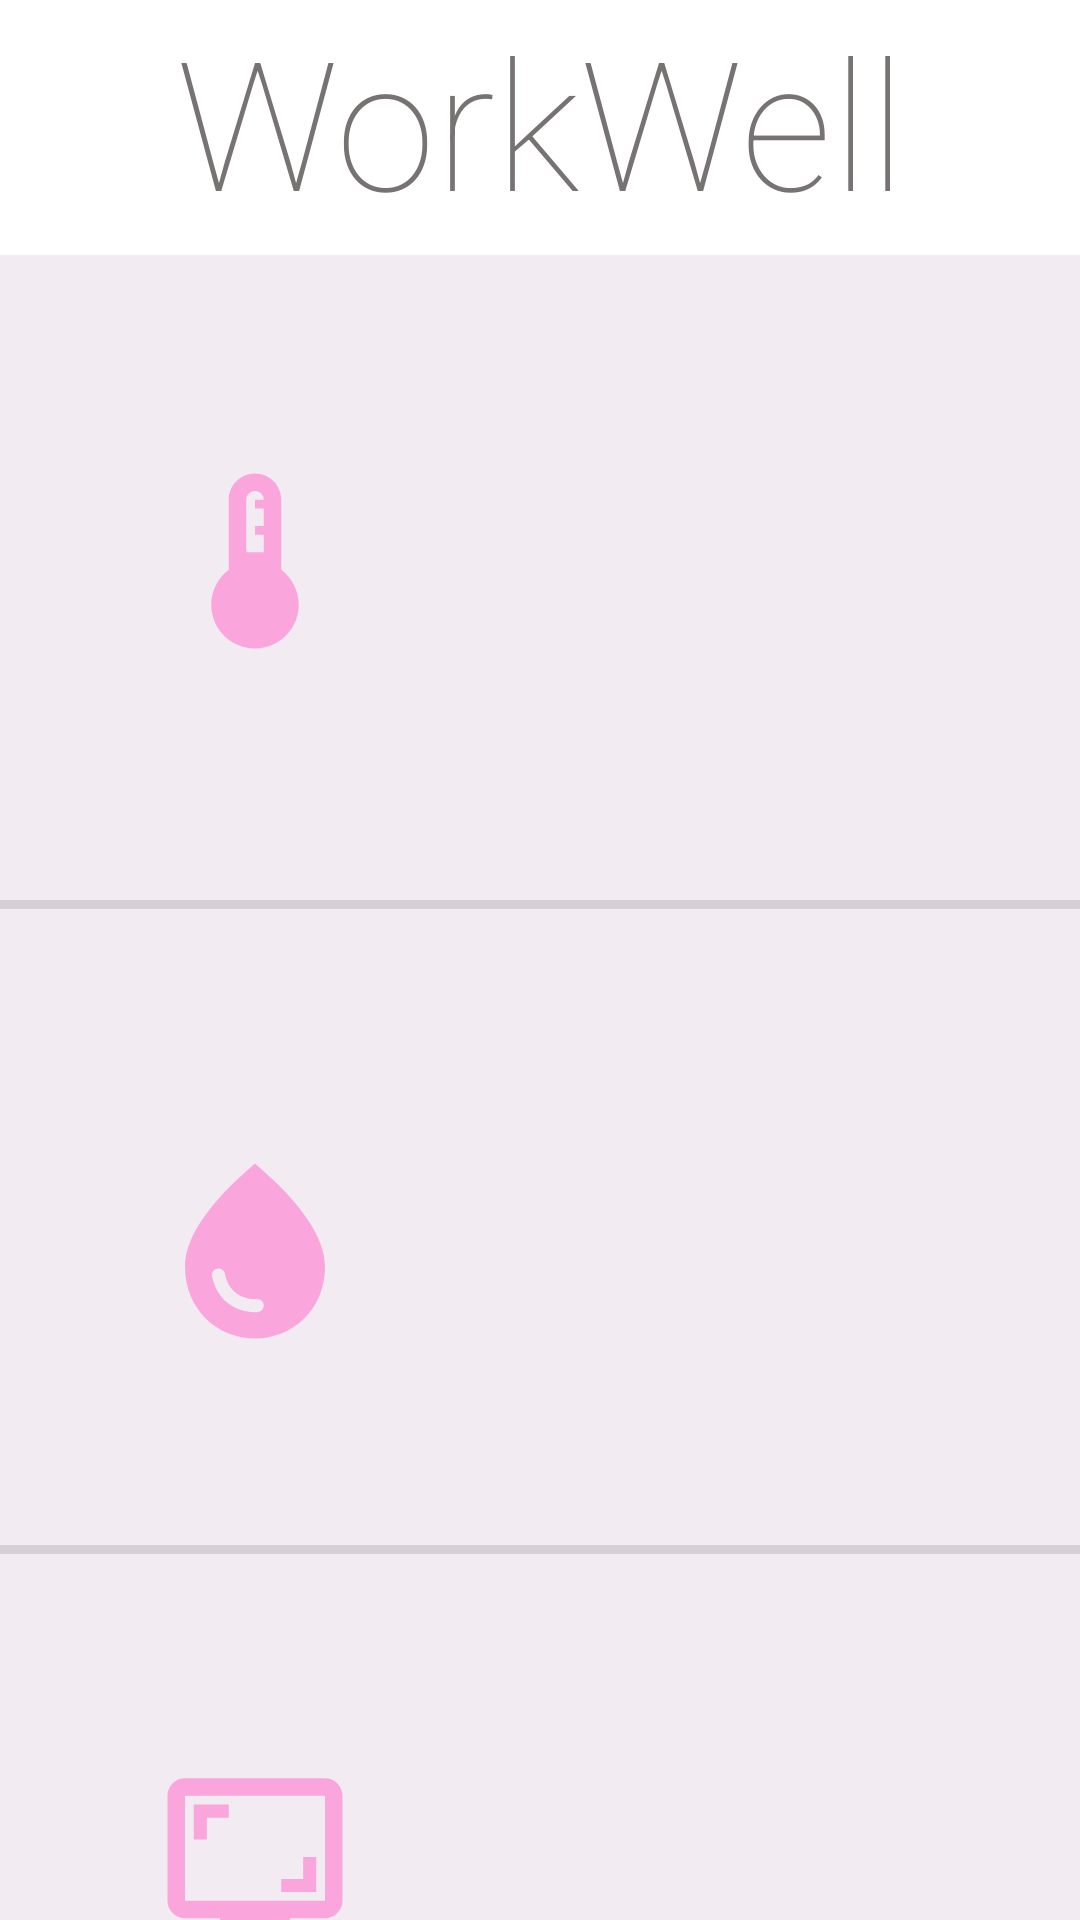

Icon bounding boxes for this 1080x1920 phone screenshot, format [left=x1, top=y1, right=x2, bottom=y2]:
Humidity: [left=185, top=1164, right=325, bottom=1339]
Temperature: [left=211, top=473, right=299, bottom=649]
